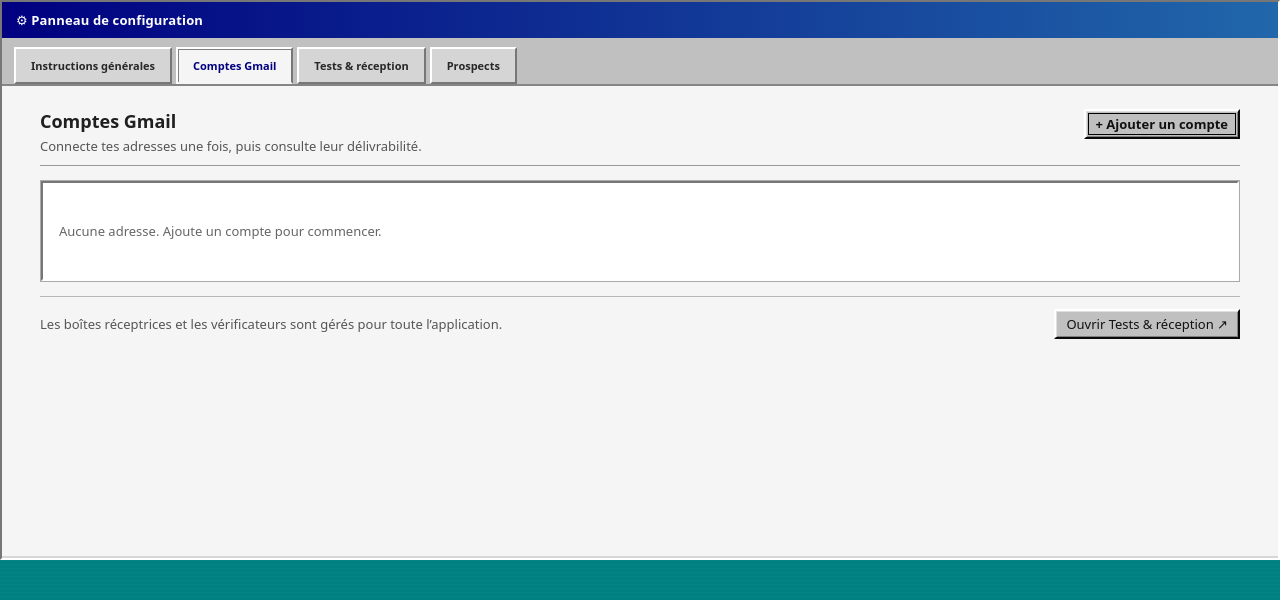
Test case: SettingsView blacklist › loads the blacklist only when selected and shows contacts absent from prospects
This screenshot has width=1280, height=600.
Click the button "Prospects" at (473, 66), box [430, 47, 517, 84]
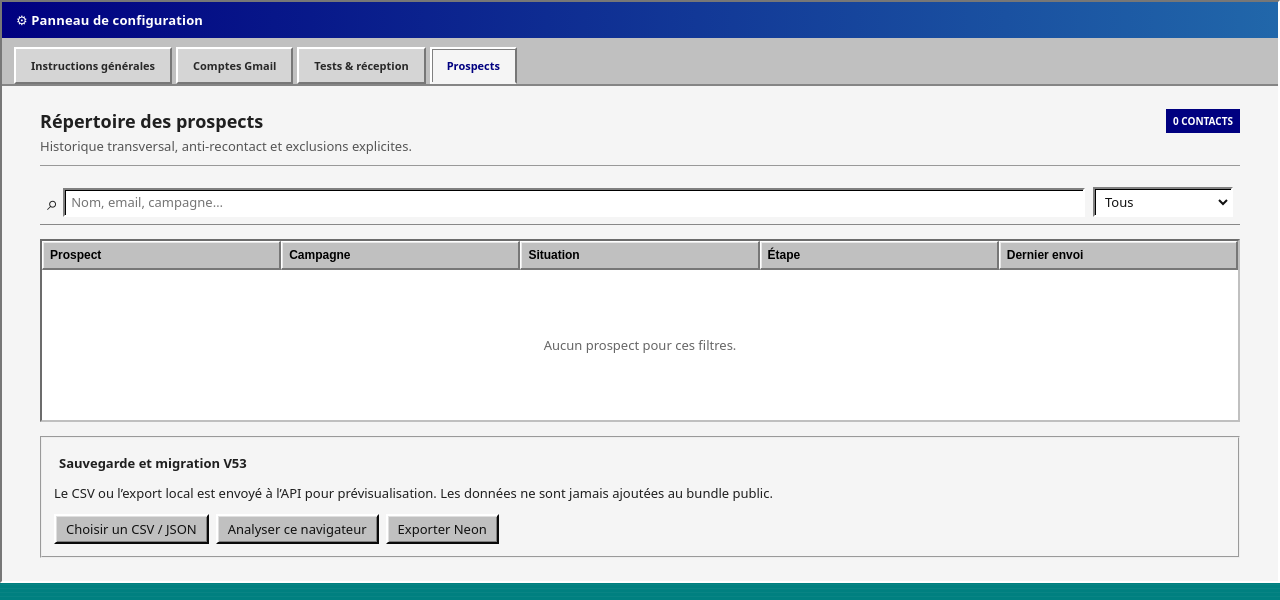
Select "Blacklist" in the dropdown named "Filtrer les prospects" at (1163, 202), box [1093, 187, 1233, 217]
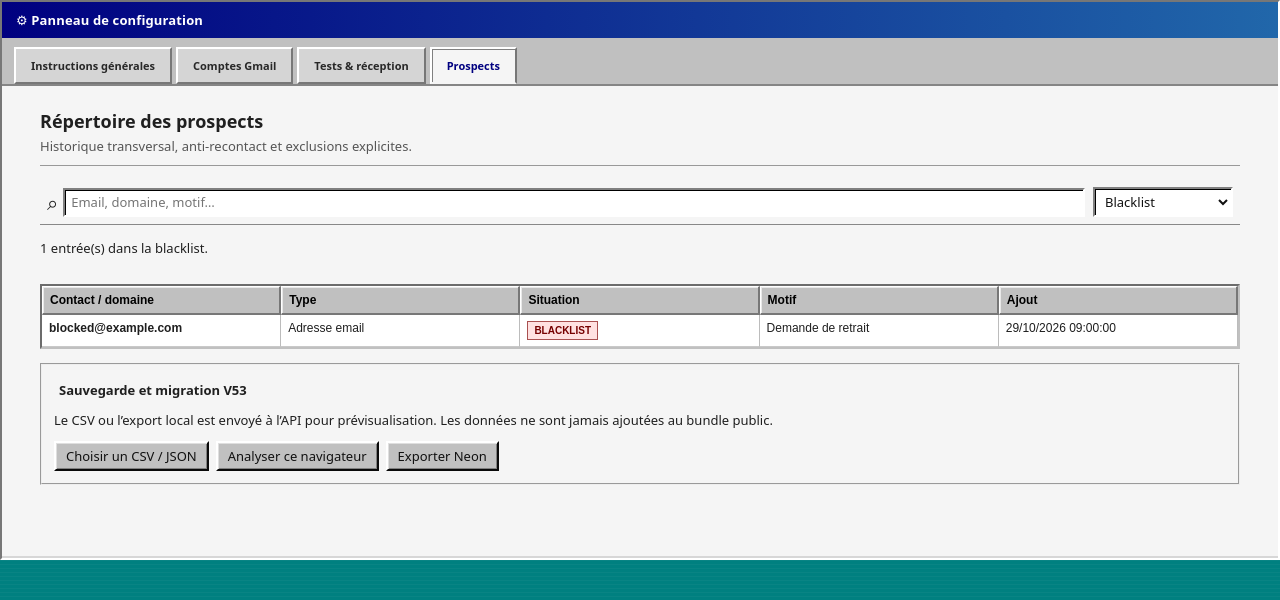
Expected: the text "blocked@example.com" is shown once, [49, 321, 182, 335]
Expected: the text "Demande de retrait" is shown, [760, 315, 999, 347]
Expected: the text "Adresse email" is shown, [281, 315, 520, 347]
Select "Ne pas contacter" in the dropdown named "Filtrer les prospects" at (1163, 202), box [1093, 187, 1233, 217]
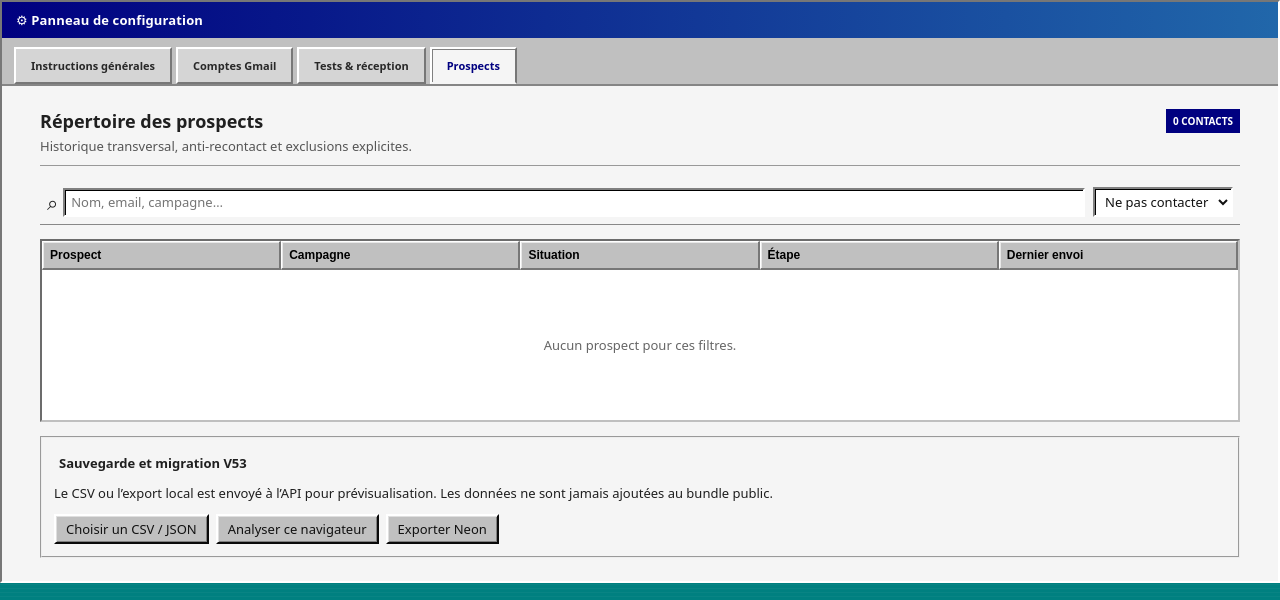
Expected: the text "blocked@example.com" is gone
Expected: the text "Aucun prospect pour ces filtres." is shown, [544, 336, 736, 354]
